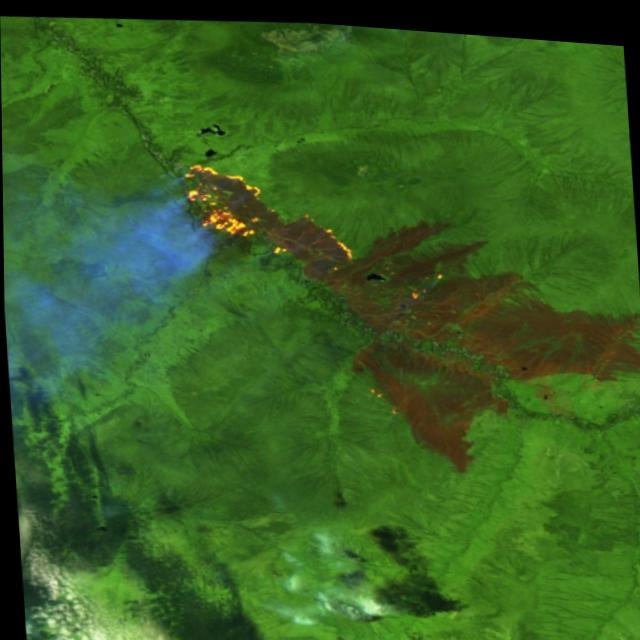fire: (174, 145, 361, 276)
